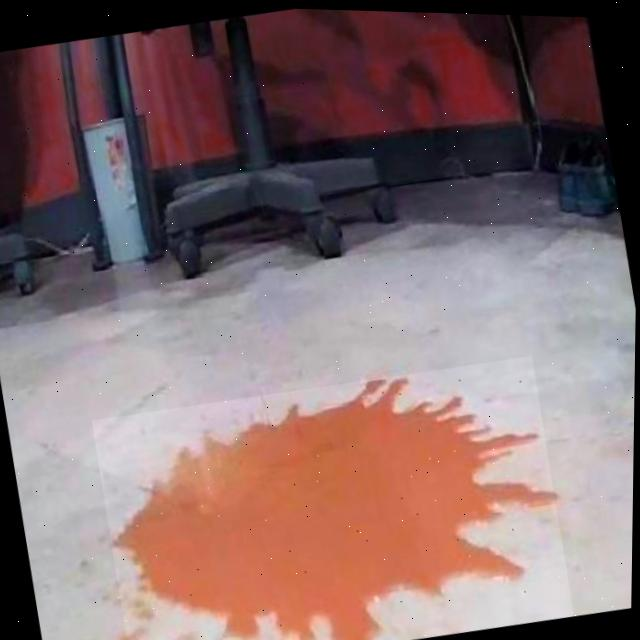spillage: (114, 377, 556, 640)
